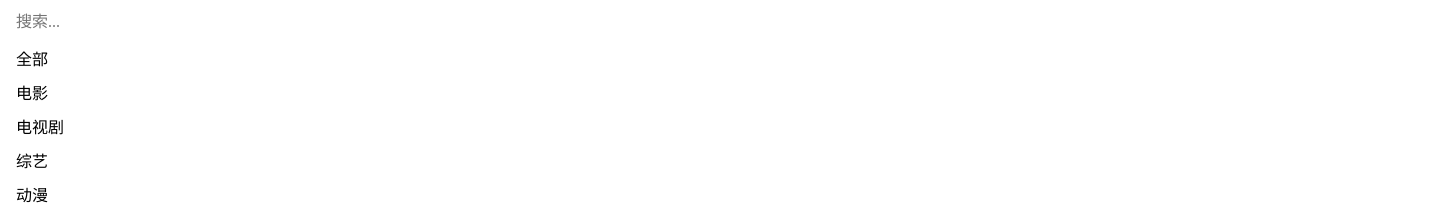
Test: DataTableEnumFilter — 单选模式 › search input 过滤 options（按 label）
Type "电视" into the search field with test id "ef-search" at (720, 22), box [8, 8, 1432, 36]
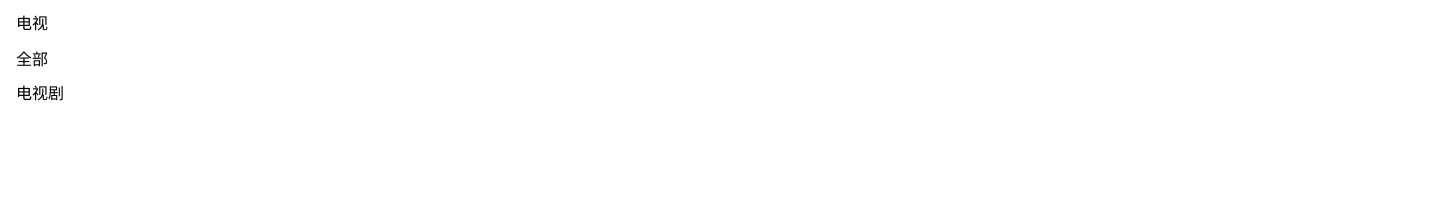
Expected: the option with test id "ef-option-series" is shown, [8, 76, 1432, 108]
Result: the option with test id "ef-option-movie" is gone
